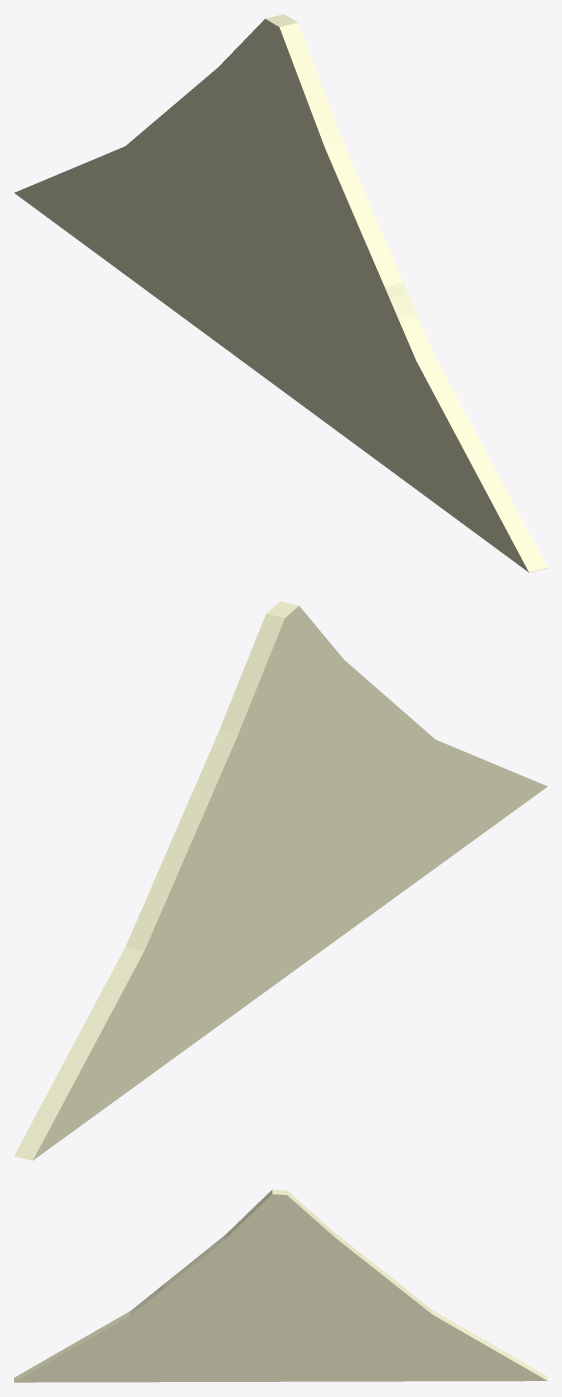
The model's file is Roof_Wall_JP.fbx.
3 views of the same model, one above another, from view 1: azimuth 30°, elevation 25°; view 2: azimuth 150°, elevation 25°; view 3: azimuth 270°, elevation 25° (orthographic). The views are drawn at different scales.
Visible parts, largest first — view 1: Roof_Wall_JP; view 2: Roof_Wall_JP; view 3: Roof_Wall_JP.
Boxes of the visible parts, x1,y1,x2,y2 form: Roof_Wall_JP: [14, 14, 547, 572]; Roof_Wall_JP: [14, 601, 547, 1160]; Roof_Wall_JP: [14, 1189, 547, 1382].
Bounding box in the file's own units: 25.08 × 453 × 1163.
